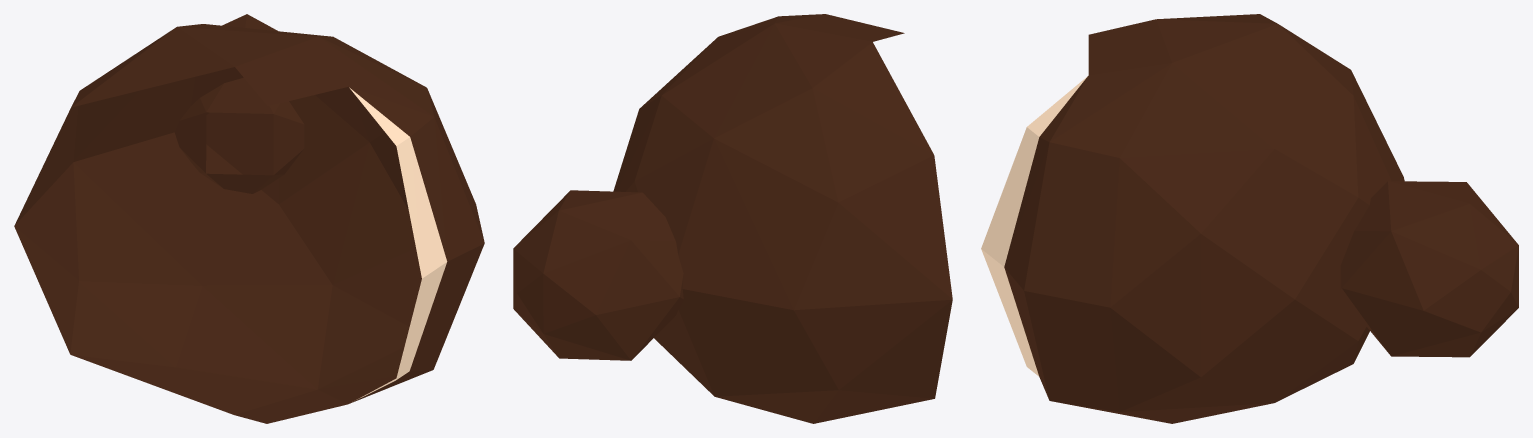
Rendered from hair65.glb.
3 renders of one model, left to right at view 1: azimuth 30°, elevation 25°; view 2: azimuth 150°, elevation 25°; view 3: azimuth 270°, elevation 25°, orthographic. The views are drawn at different scales.
Visible parts, largest first — view 1: tomodachi-2026-03-21-15-02-19-217, tomodachi-2026-03-21-15-02-19-217.008; view 2: tomodachi-2026-03-21-15-02-19-217; view 3: tomodachi-2026-03-21-15-02-19-217, tomodachi-2026-03-21-15-02-19-217.008.
Boxes of the visible parts, box(x1,y1,x2,y2) form: tomodachi-2026-03-21-15-02-19-217: box(14, 14, 484, 423); tomodachi-2026-03-21-15-02-19-217.008: box(349, 87, 447, 399); tomodachi-2026-03-21-15-02-19-217: box(513, 14, 952, 423); tomodachi-2026-03-21-15-02-19-217: box(1004, 14, 1518, 423); tomodachi-2026-03-21-15-02-19-217.008: box(981, 76, 1087, 376).
Size of the model in its own units: 1.18 by 1.05 by 1.42.
Materials: 2 (2 with a texture image).
